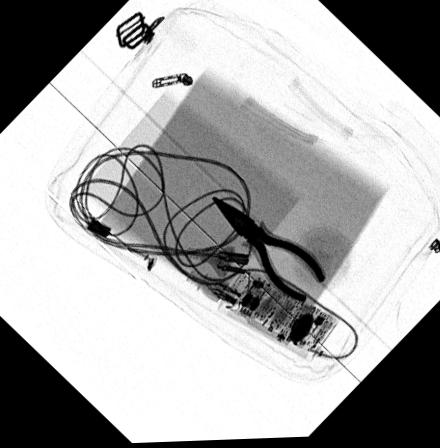Pliers: (208, 198, 325, 305)
